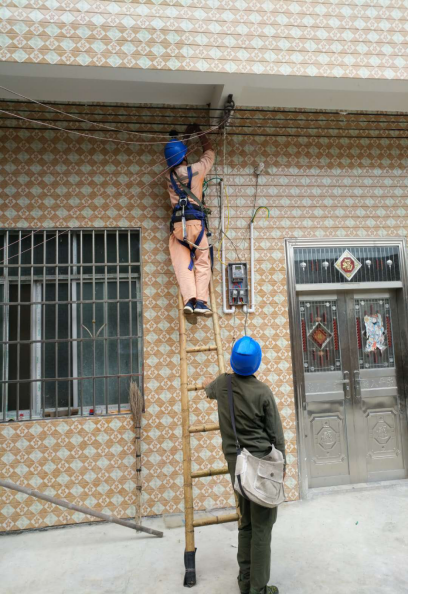downcloth: (237, 491, 280, 595)
halt: (229, 337, 264, 376), (164, 140, 191, 171)
inear: (181, 151, 190, 164)
longglove: (195, 125, 212, 150), (178, 125, 194, 150)
person: (207, 334, 296, 595), (160, 138, 217, 316)
safebelt: (165, 164, 220, 278)
upcloth: (208, 373, 291, 476)
ydownsuit: (167, 219, 214, 301)
yupsuit: (167, 148, 217, 214)
